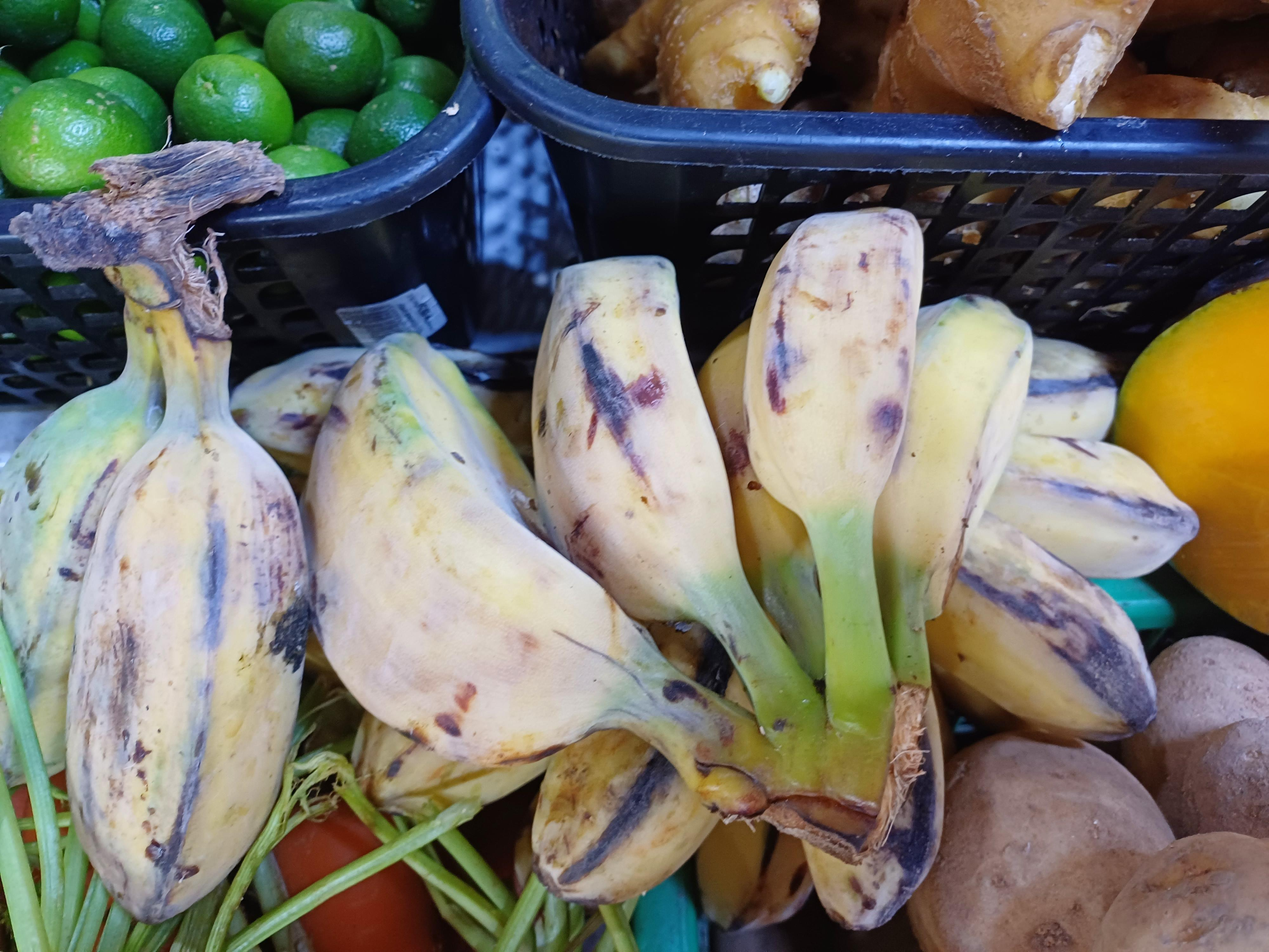ripe: (300, 208, 1033, 770), (353, 692, 944, 933), (925, 337, 1201, 741)
underripe: (0, 382, 314, 925)
